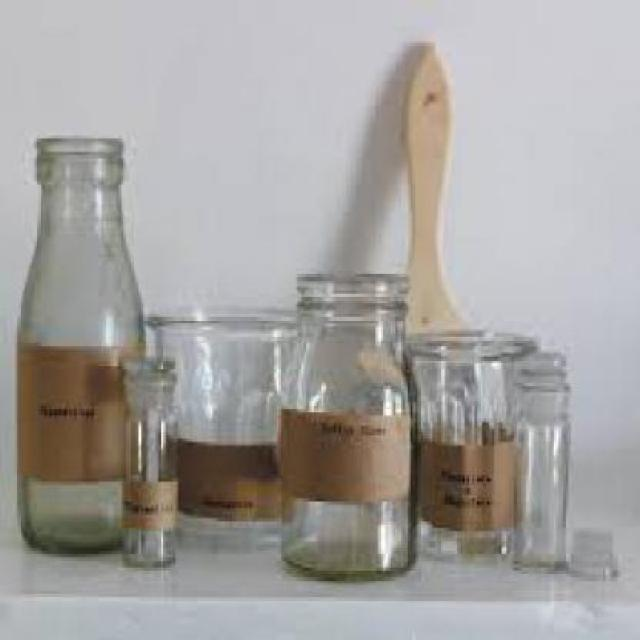GLASS: (12, 132, 142, 551), (278, 274, 410, 574), (146, 311, 297, 551), (401, 336, 533, 561), (117, 353, 175, 564), (508, 349, 564, 565), (570, 525, 613, 577)
